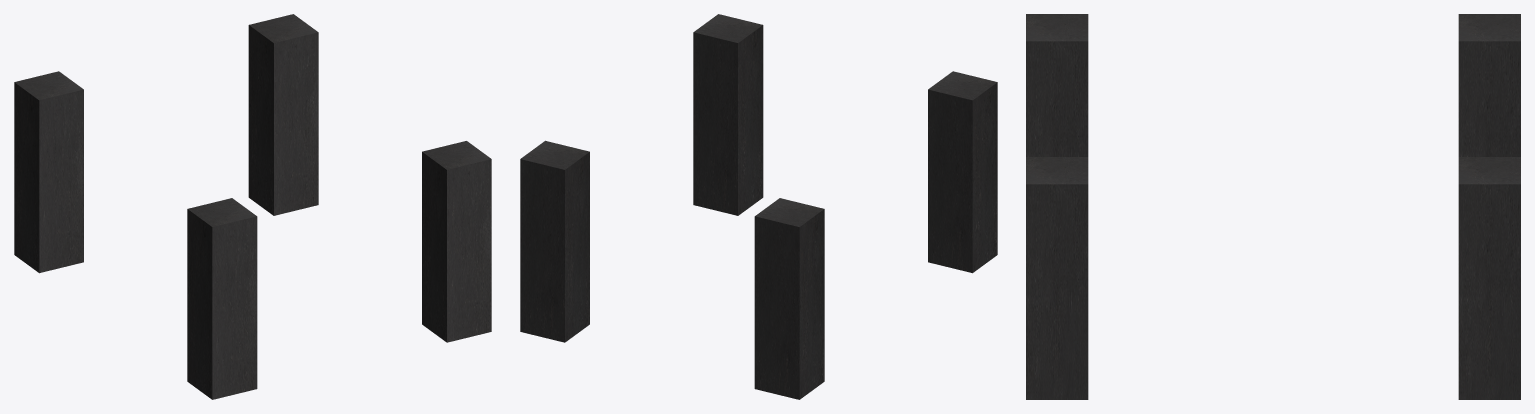
Rendered from orionPatasIndustrial.glb.
The picture shows the model from 3 angles, left to right: view 1: azimuth 30°, elevation 25°; view 2: azimuth 150°, elevation 25°; view 3: azimuth 270°, elevation 25°; orthographic projection. The views are drawn at different scales.
Parts seen in each view (by area): view 1: Cube.004, Cube.007, Cube.006, Cube.005; view 2: Cube.005, Cube.006, Cube.004, Cube.007; view 3: Cube.005, Cube.007, Cube.004, Cube.006.
Boxes of the visible parts, left/top/right/bottom form: Cube.004: left=187, top=198, right=257, bottom=399; Cube.007: left=248, top=14, right=318, bottom=215; Cube.006: left=14, top=71, right=83, bottom=273; Cube.005: left=422, top=141, right=491, bottom=342; Cube.005: left=693, top=14, right=763, bottom=215; Cube.006: left=754, top=198, right=824, bottom=399; Cube.004: left=928, top=71, right=997, bottom=273; Cube.007: left=520, top=140, right=589, bottom=342; Cube.005: left=1026, top=157, right=1088, bottom=399; Cube.007: left=1458, top=157, right=1520, bottom=399; Cube.004: left=1026, top=14, right=1088, bottom=156; Cube.006: left=1458, top=14, right=1520, bottom=156.
Bounding box in the file's own units: 1.8 × 1.06 × 2.21.
Materials: 4 (4 with a texture image).
